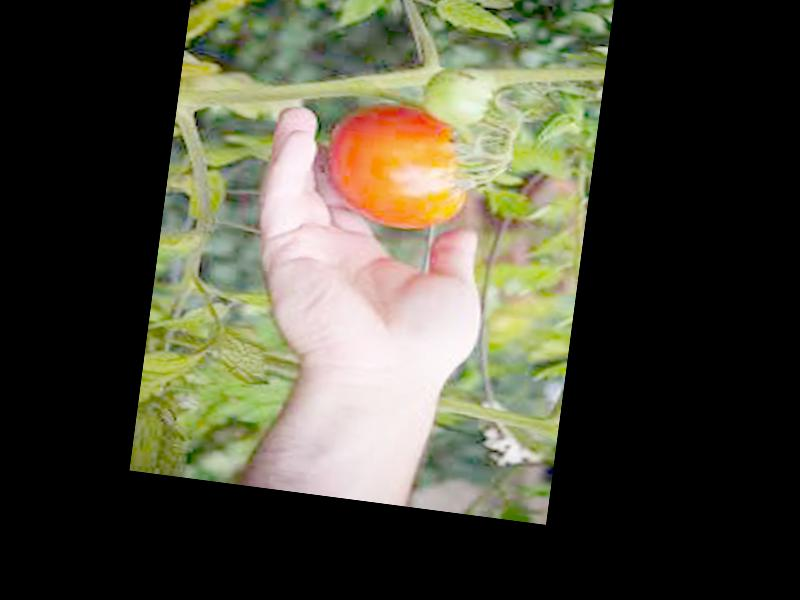Tomato: (320, 93, 480, 236)
